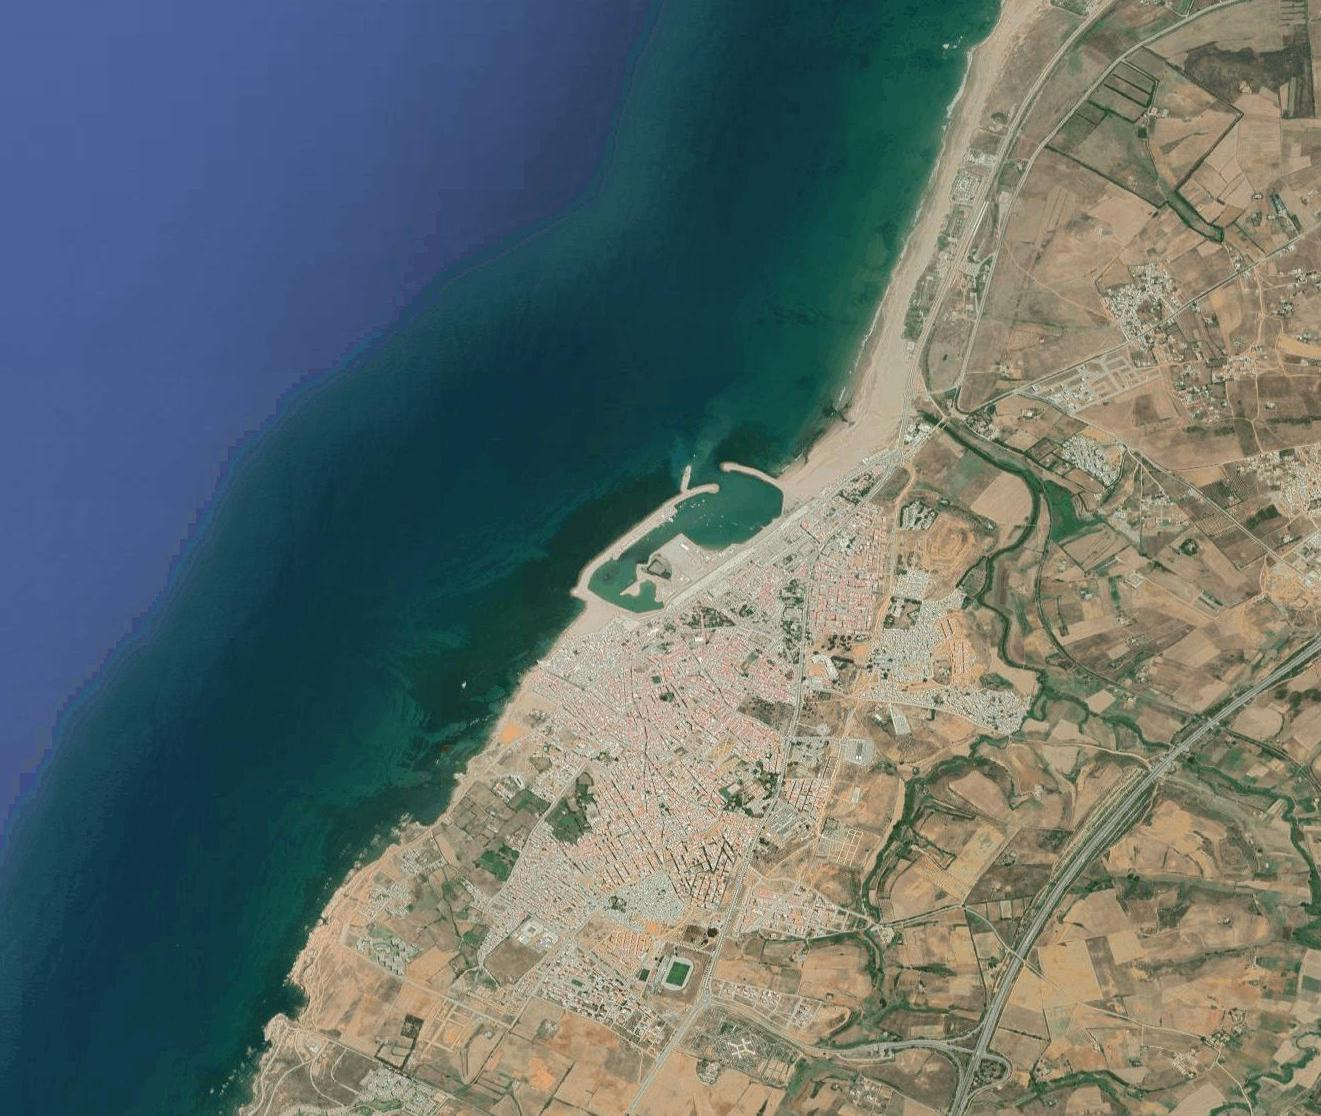harbor: (574, 459, 777, 611)
motorway: (951, 940, 1029, 1116), (1100, 725, 1206, 829), (1014, 830, 1102, 945), (1207, 641, 1321, 728)
